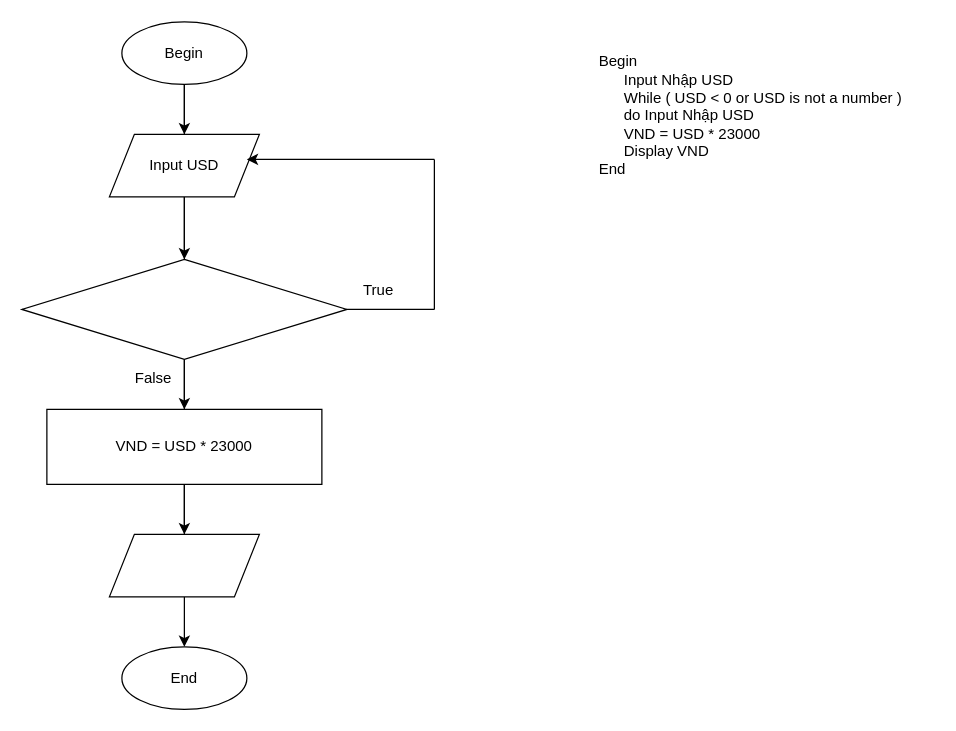
Some shapes in this 956 by 731 pixel diagram are drawn without their labels. Here are the shapes that lost their labels. From the top down, the centre of each, then its label:
At point (184, 308): "USD < 0 or USD is not a number".
At point (183, 565): "Display VND".
